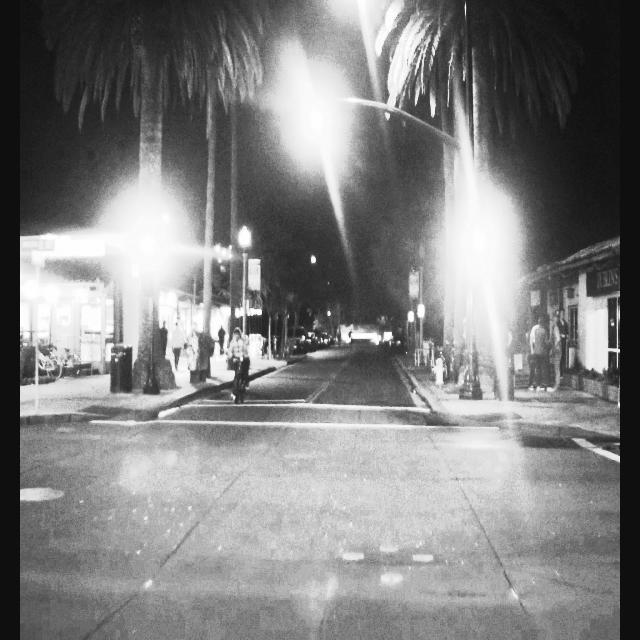Light: (473, 203, 486, 251), (309, 87, 323, 131), (141, 213, 154, 255)
